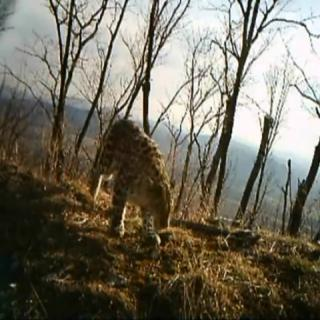Leopard: (71, 127, 200, 259)
